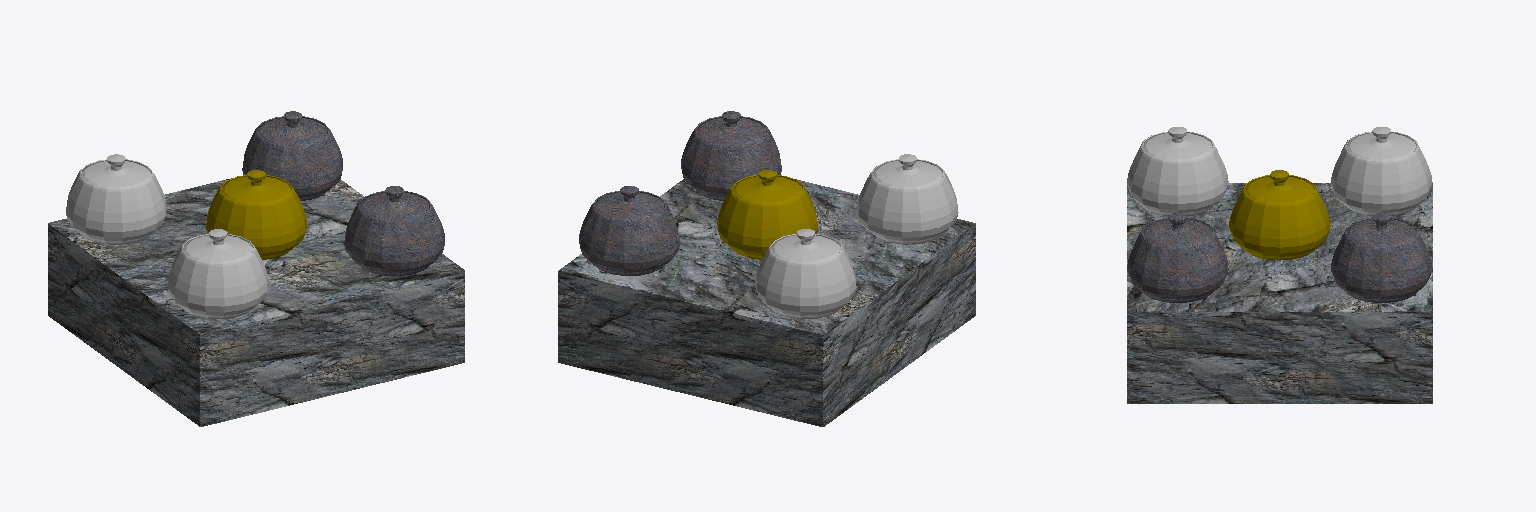
The picture shows the model from 3 angles: view 1: azimuth 30°, elevation 25°; view 2: azimuth 150°, elevation 25°; view 3: azimuth 270°, elevation 25°; orthographic projection.
Visible parts, largest first — view 1: mesh01; view 2: mesh01; view 3: mesh01.
Part boxes in pixels (x1,y1,x2,y2): mesh01: (48, 111, 464, 426); mesh01: (558, 111, 975, 426); mesh01: (1127, 127, 1432, 403).
Bounding box in the file's own units: 3.01 × 1.8 × 3.
Materials: 6 (2 with a texture image).